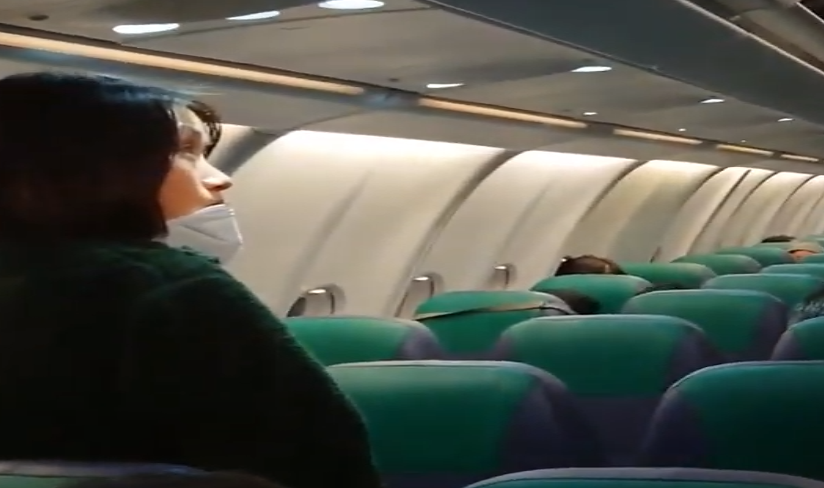mask_weared_incorrect: (57, 68, 248, 265)
